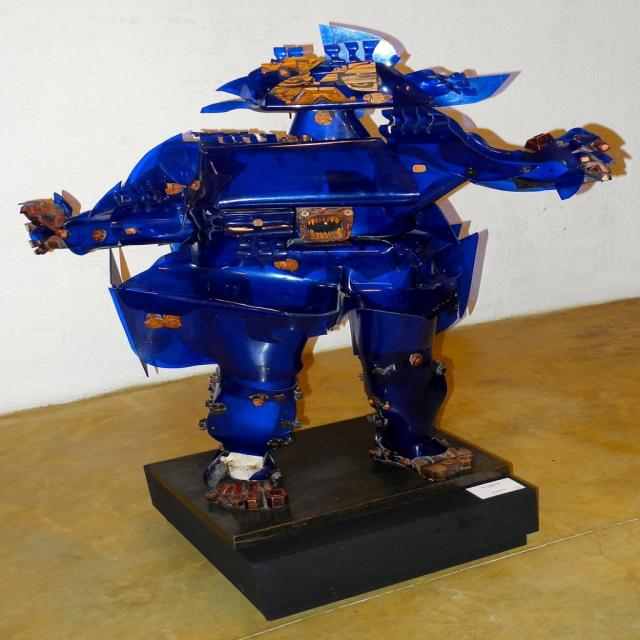Toy: (16, 24, 617, 552)
